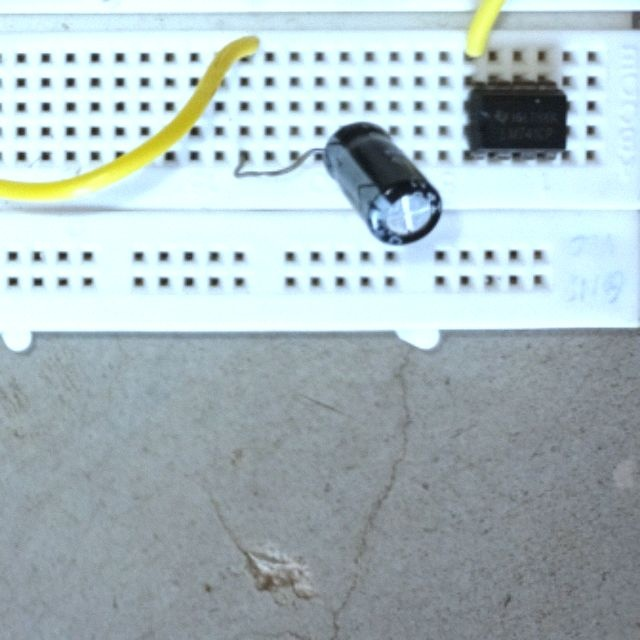capacitor: (321, 120, 445, 248)
